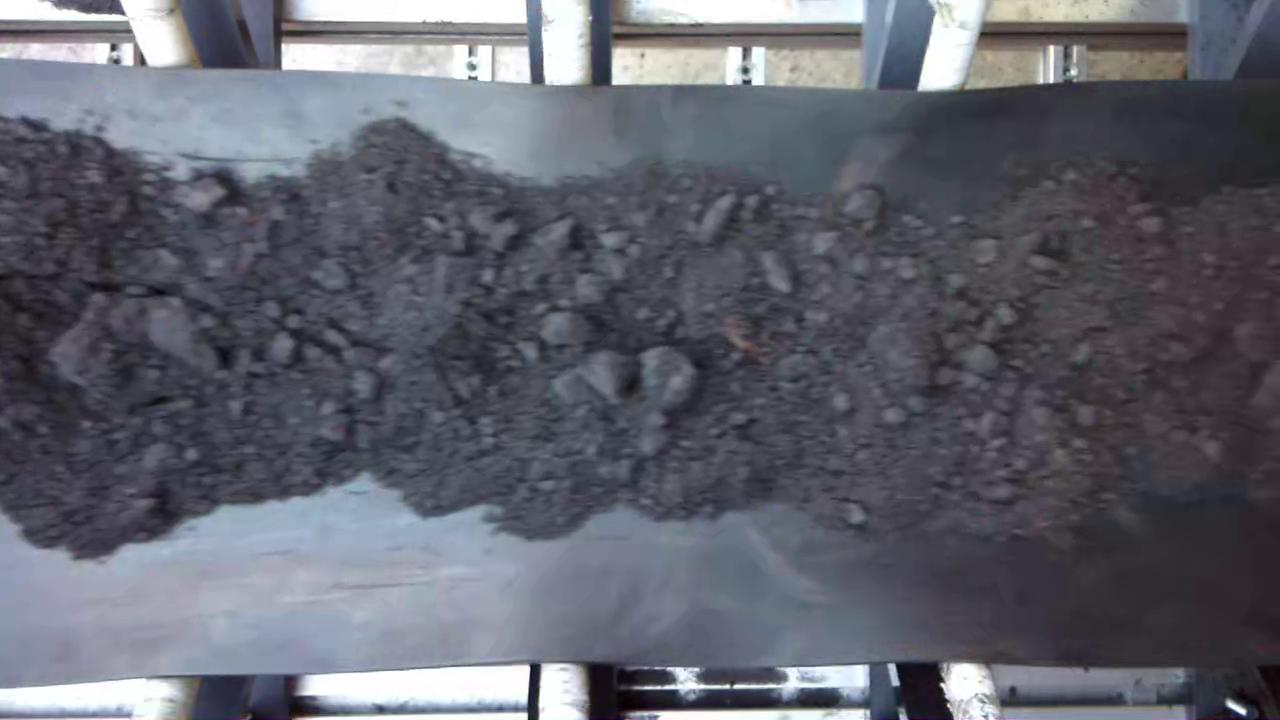conveyor: (7, 87, 1279, 660)
